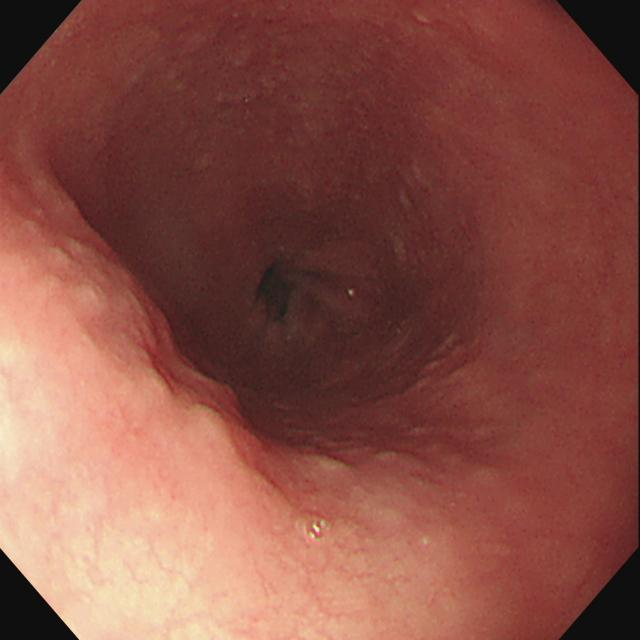E: (261, 268, 291, 316)
T: (305, 515, 332, 547)
